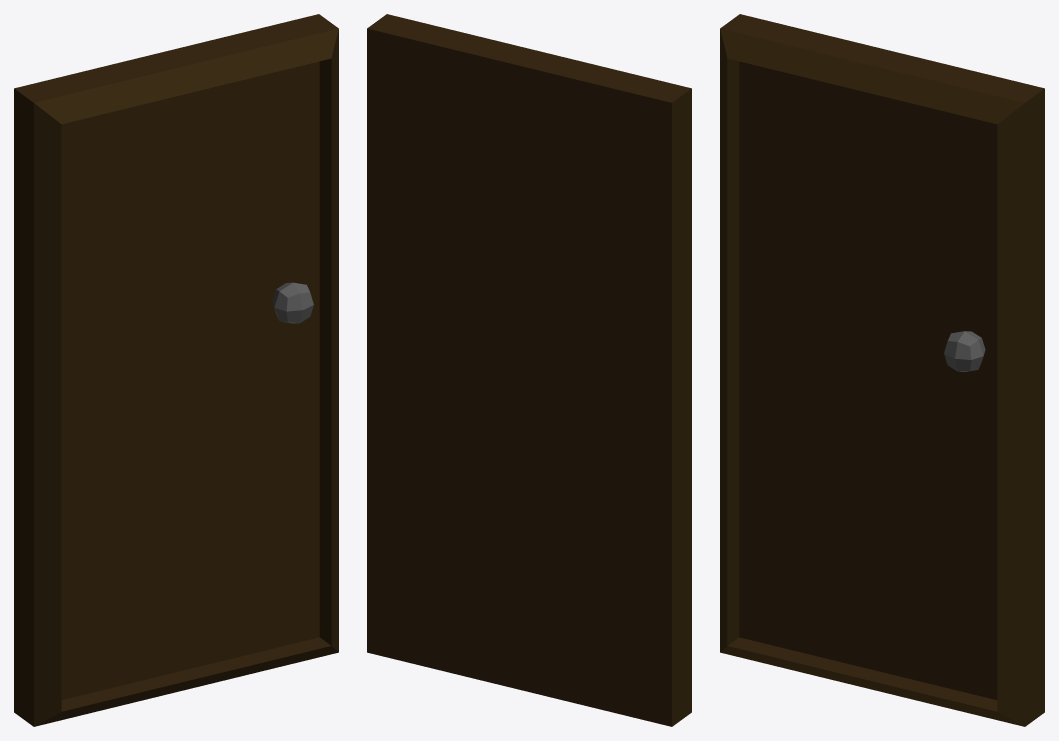
File: Puerta.fbx
The picture shows the model from 3 angles, left to right: view 1: azimuth 30°, elevation 25°; view 2: azimuth 150°, elevation 25°; view 3: azimuth 330°, elevation 25°; orthographic projection.
Visible parts, largest first — view 1: Cubo.012; view 2: Cubo.012; view 3: Cubo.012.
Part boxes in pixels (bbox=[...]): Cubo.012: bbox=[14, 14, 338, 726]; Cubo.012: bbox=[367, 14, 691, 726]; Cubo.012: bbox=[720, 14, 1044, 726].
Bounding box in the file's own units: 320 × 625 × 67.05.
